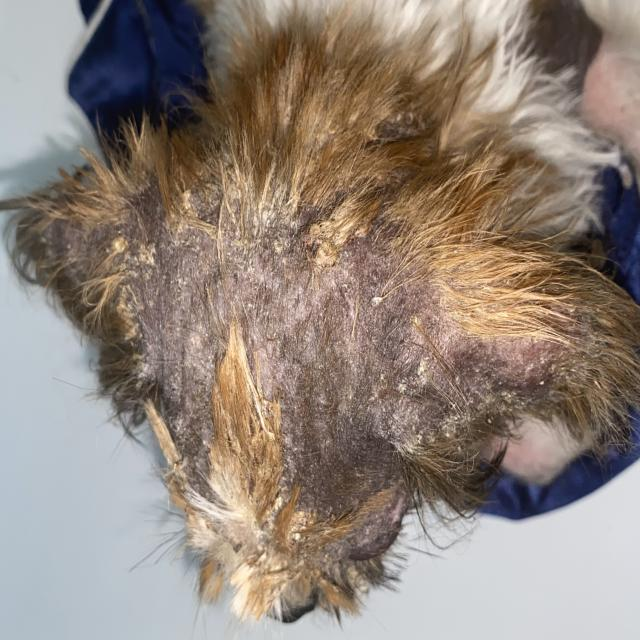demodicosis: (264, 230, 585, 381), (68, 185, 240, 462), (279, 396, 460, 543)
